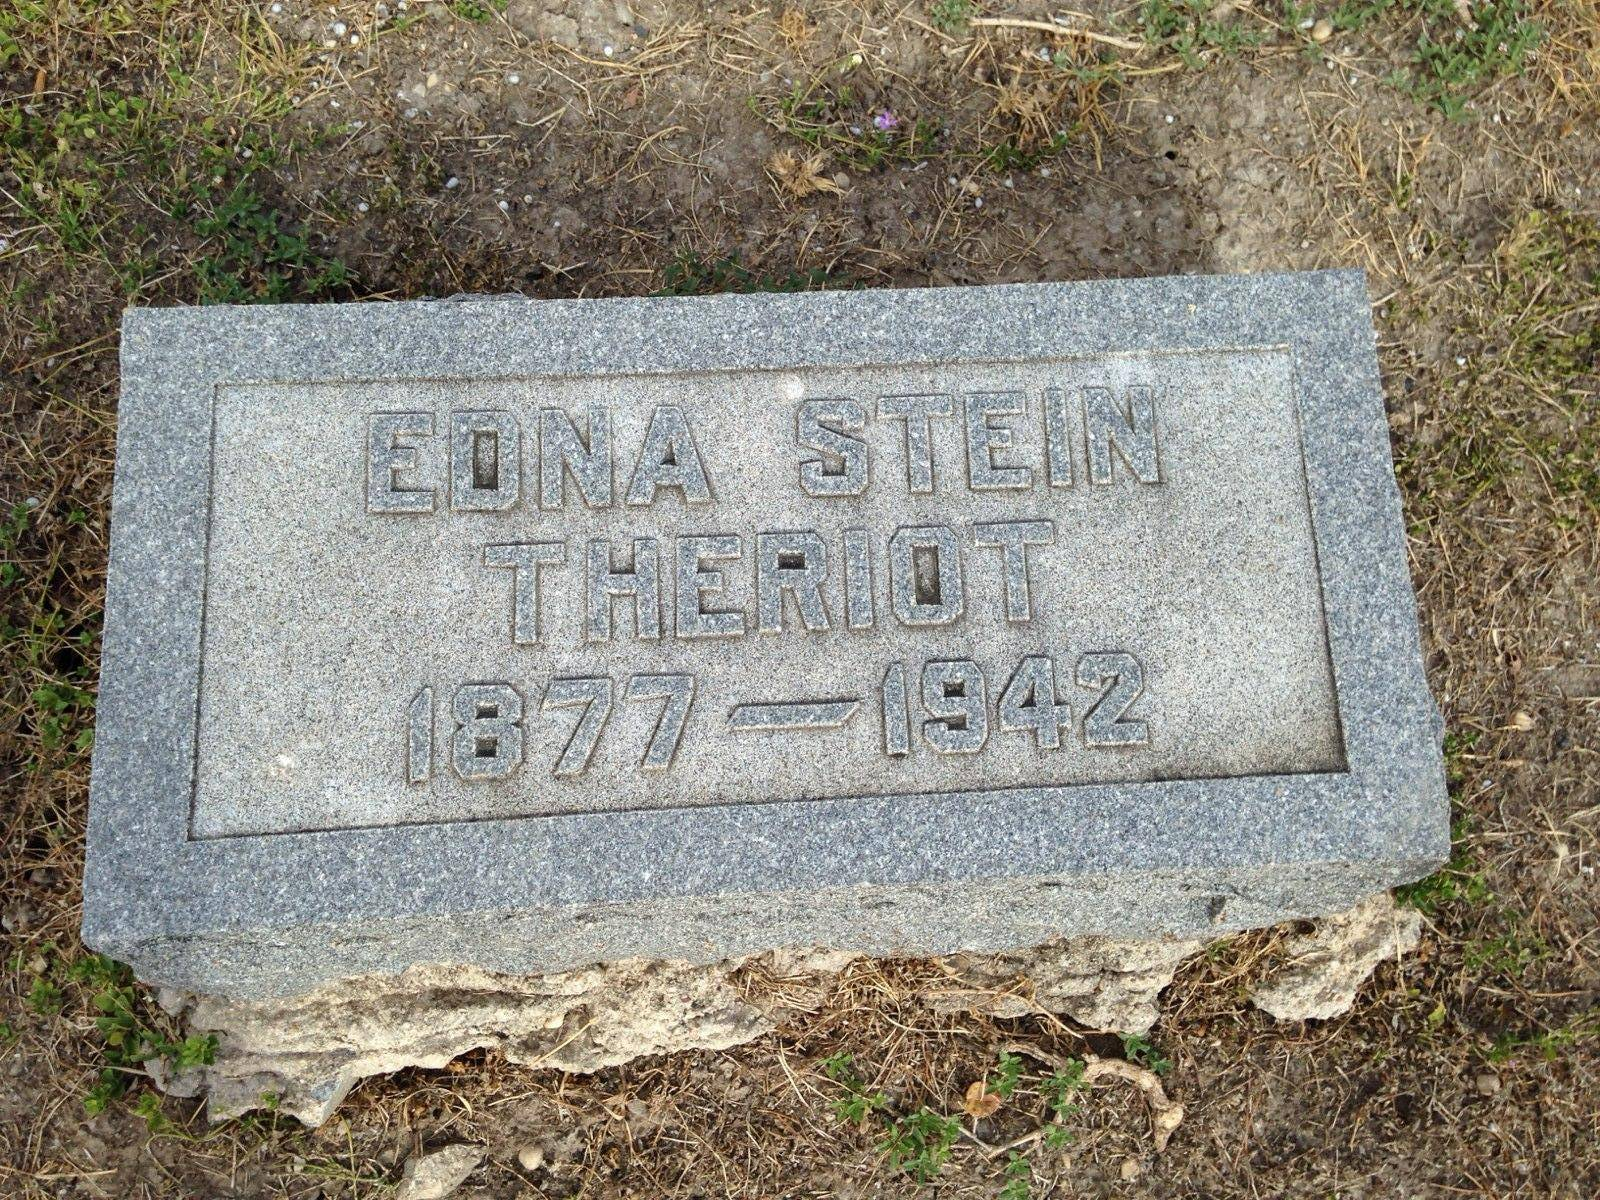flat: (78, 267, 1450, 1005)
